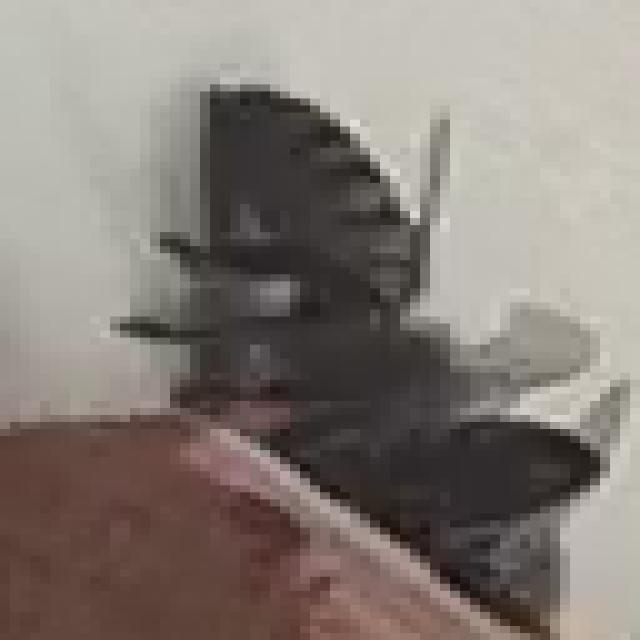honeybee: (150, 92, 489, 404)
